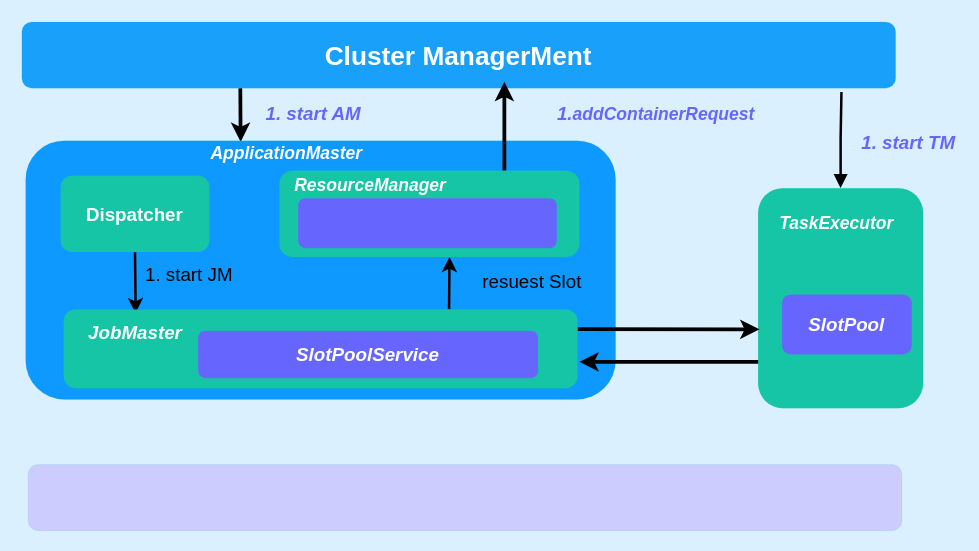
This 979x551 diagram has some shape labels left out. The shapes that lost their labels are listed below. From the top down, each one's box as (x1, y1, x2, y2) in pixels, then its label:
(298, 198, 556, 248): SlotManager
(28, 464, 901, 530): Storage(HDFS,RocksDB)
